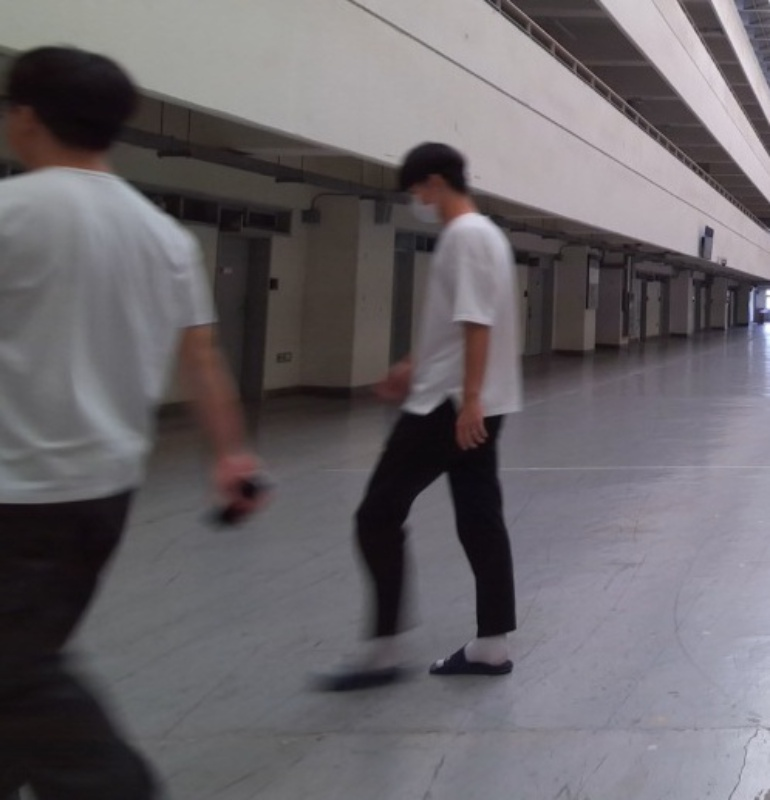person: (301, 141, 527, 694)
